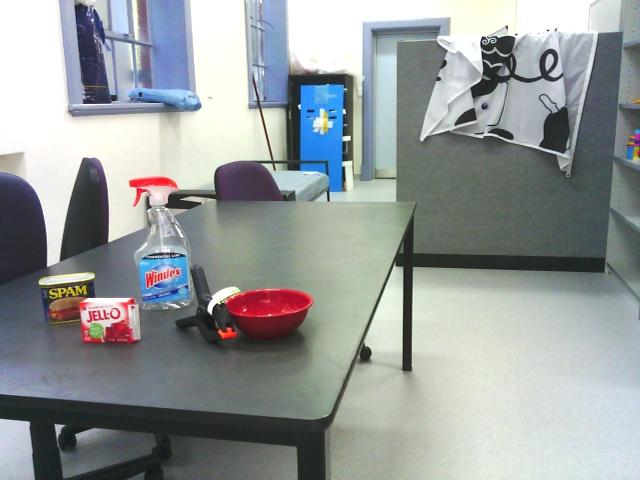009_gelatin_box: (77, 296, 148, 344)
010_potted_meat_can: (37, 274, 97, 324)
024_bowl: (225, 287, 318, 341)
051_large_clamp: (173, 264, 241, 342)
